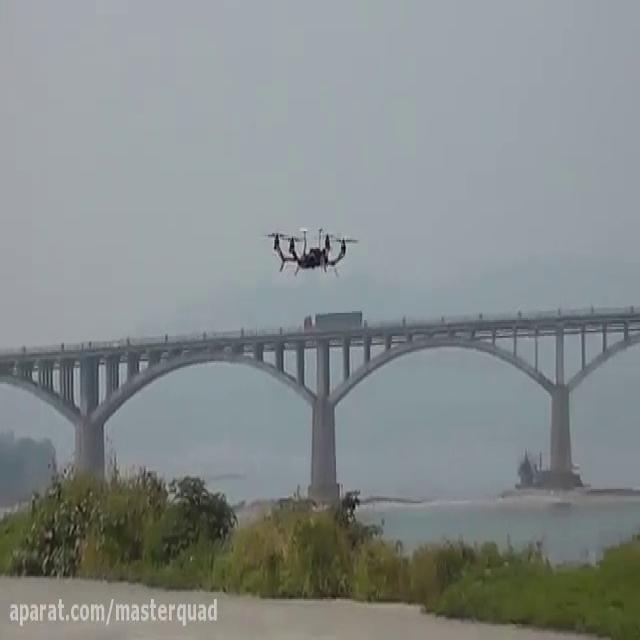drone: (257, 222, 362, 279)
